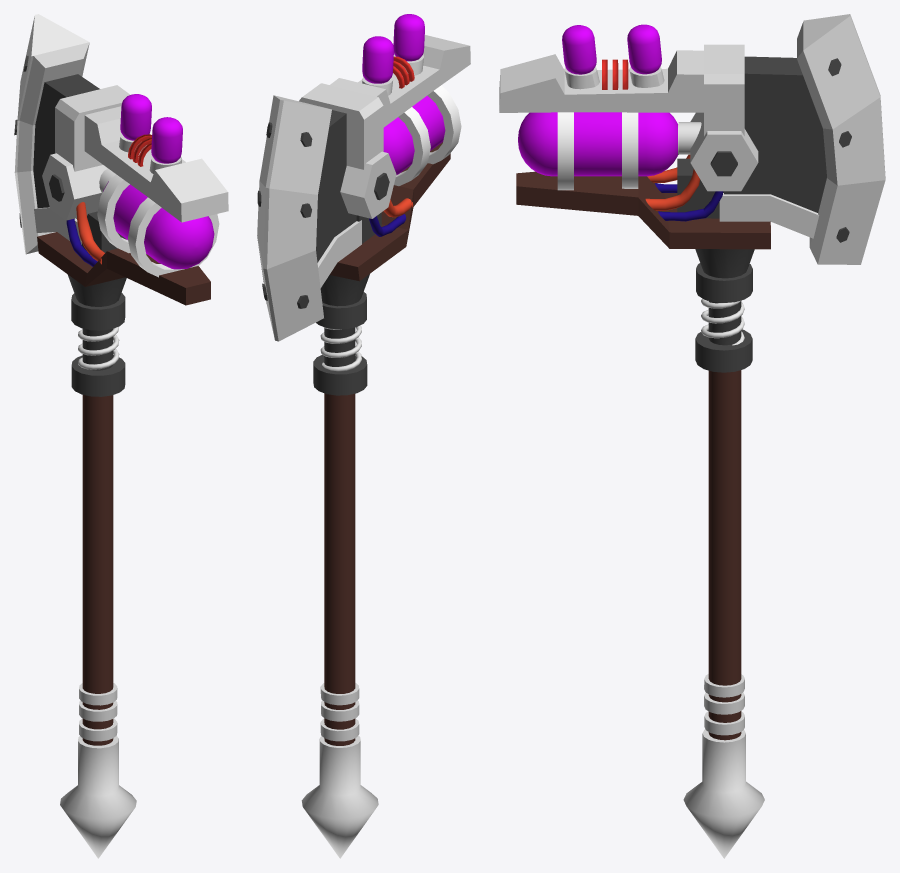
File: CyberAxe.fbx
3 views of the same model, side by side, from view 1: azimuth 30°, elevation 25°; view 2: azimuth 150°, elevation 25°; view 3: azimuth 270°, elevation 25° (orthographic). The views are drawn at different scales.
Visible parts, largest first — view 1: Cylinder, Cube.003, Cube, Cylinder.001, Cube.004, Cylinder.026, Cube.002, Cylinder.012, Cube.001, Cylinder.013, Cylinder.027, Cylinder.005 (+9 smaller); view 2: Cube, Cylinder, Cylinder.001, Cube.003, Cube.004, Cube.002, Cube.001, Cylinder.012, Cylinder.013, Cylinder.026, Cylinder.027, Cylinder.004 (+6 smaller); view 3: Cube, Cylinder, Cube.001, Cube.003, Cube.004, Cylinder.026, Cylinder.001, Cube.002, Cylinder.013, Cube.006, Cylinder.012, Cylinder.027 (+8 smaller).
Boxes of the visible parts, x1,y1,x2,y2 form: Cylinder: (82,395,113,745); Cube.003: (84,106,228,222); Cube: (14,14,89,254); Cylinder.001: (60,736,136,858); Cube.004: (37,232,210,305); Cylinder.026: (103,181,214,269); Cube.002: (55,85,130,171); Cylinder.012: (97,174,219,277); Cube.001: (33,74,99,218); Cylinder.013: (42,153,107,220); Cylinder.027: (67,274,126,370); Cylinder.005: (71,355,125,396); Cube: (257,95,331,341); Cylinder: (324,393,355,745); Cylinder.001: (301,735,378,858); Cube.003: (330,35,470,127); Cube.004: (329,142,450,281); Cube.002: (299,83,383,169); Cube.001: (316,110,356,262); Cylinder.012: (394,85,461,186); Cylinder.013: (340,151,396,218); Cylinder.026: (383,95,445,174); Cylinder.027: (320,274,369,366); Cylinder.004: (320,683,359,741); Cube: (797,14,885,264); Cylinder: (708,370,741,740); Cube.001: (724,56,826,212); Cube.003: (499,50,703,112); Cube.004: (516,171,770,249); Cylinder.026: (518,112,677,176); Cylinder.001: (683,729,764,858); Cube.002: (704,44,744,136); Cylinder.013: (690,112,758,191); Cube.006: (719,193,819,238); Cylinder.012: (557,112,638,190); Cylinder.027: (695,249,754,345).
Bounding box in the file's own units: 12.88 × 114 × 47.36.
